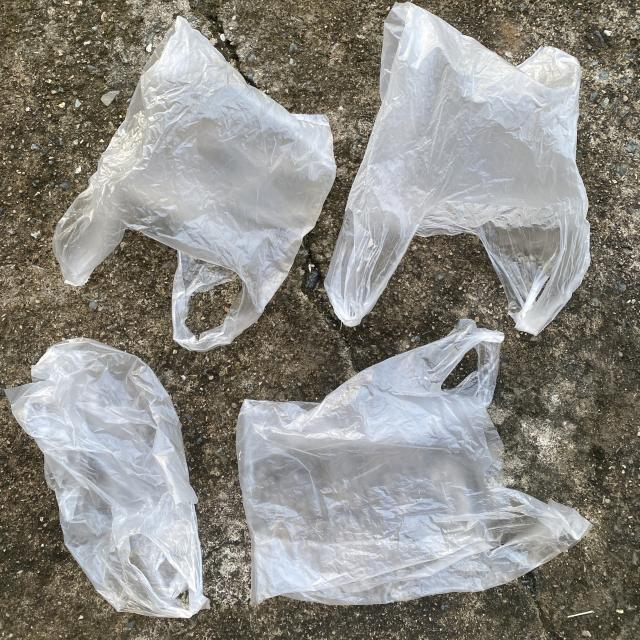Single-layer Plastic: (236, 319, 591, 605), (52, 16, 336, 351), (325, 2, 590, 335), (6, 338, 209, 618)
